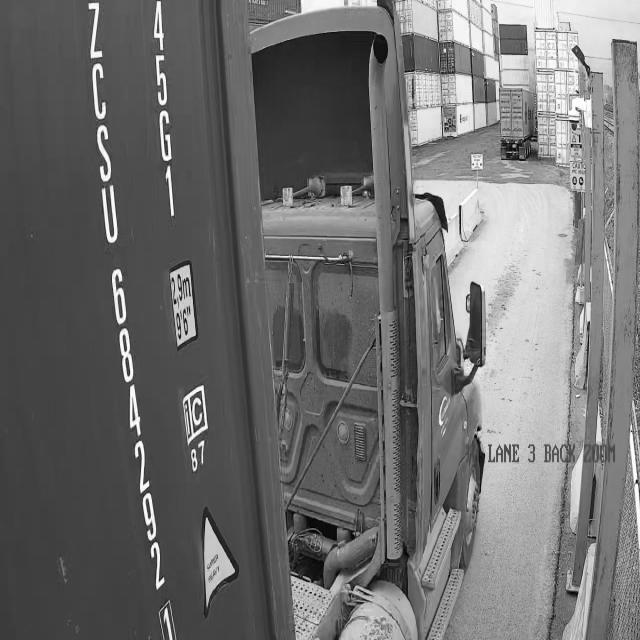container_side_no: (81, 0, 183, 639)
truck_with_container: (0, 0, 496, 639)
